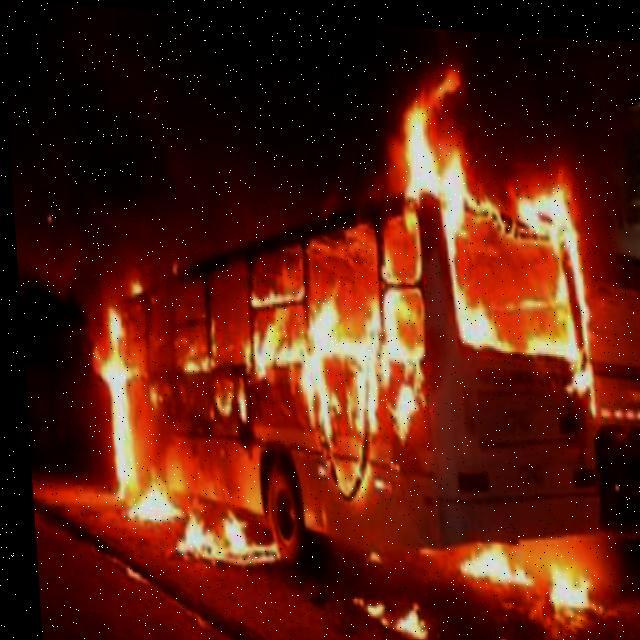Fire: (401, 78, 597, 350), (237, 256, 411, 446), (87, 293, 173, 521), (174, 508, 274, 568)
